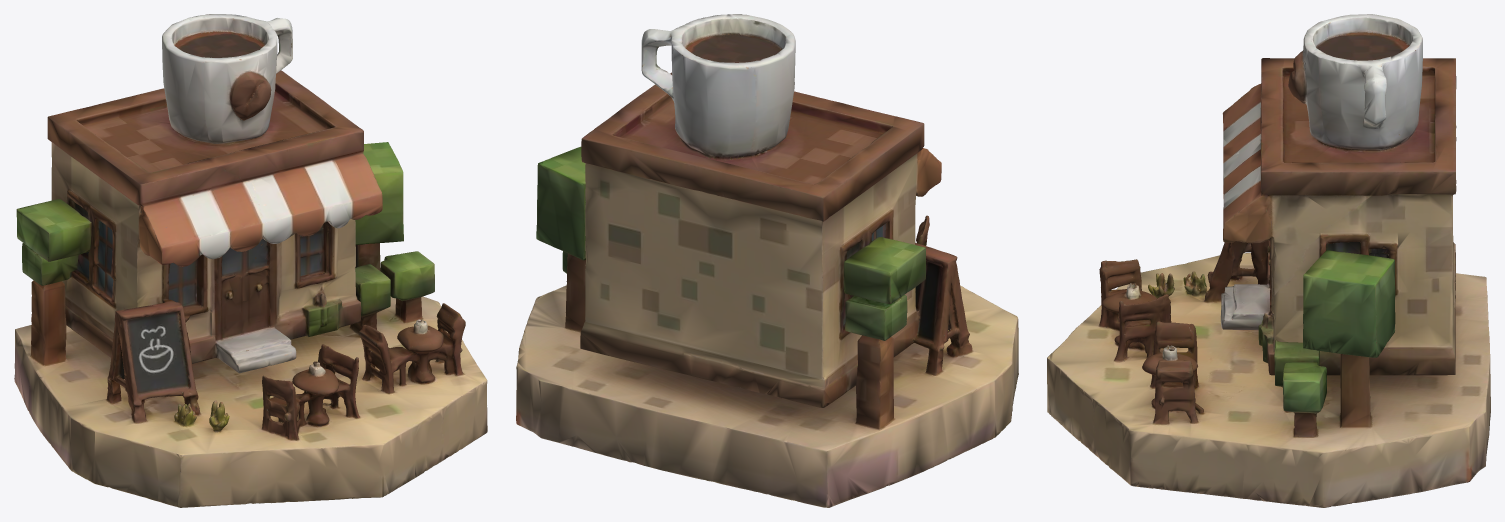
The model's file is coffee.glb.
The picture shows the model from 3 angles, left to right: view 1: azimuth 30°, elevation 25°; view 2: azimuth 150°, elevation 25°; view 3: azimuth 270°, elevation 25°; orthographic projection. The views are drawn at different scales.
Size of the model in its own units: 2 by 1.71 by 1.87.
Materials: 1 (1 with a texture image).
